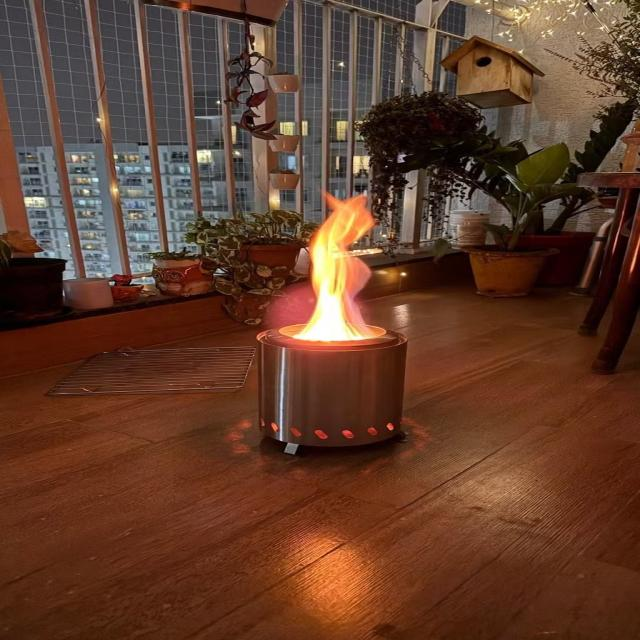fire: (291, 190, 374, 341)
